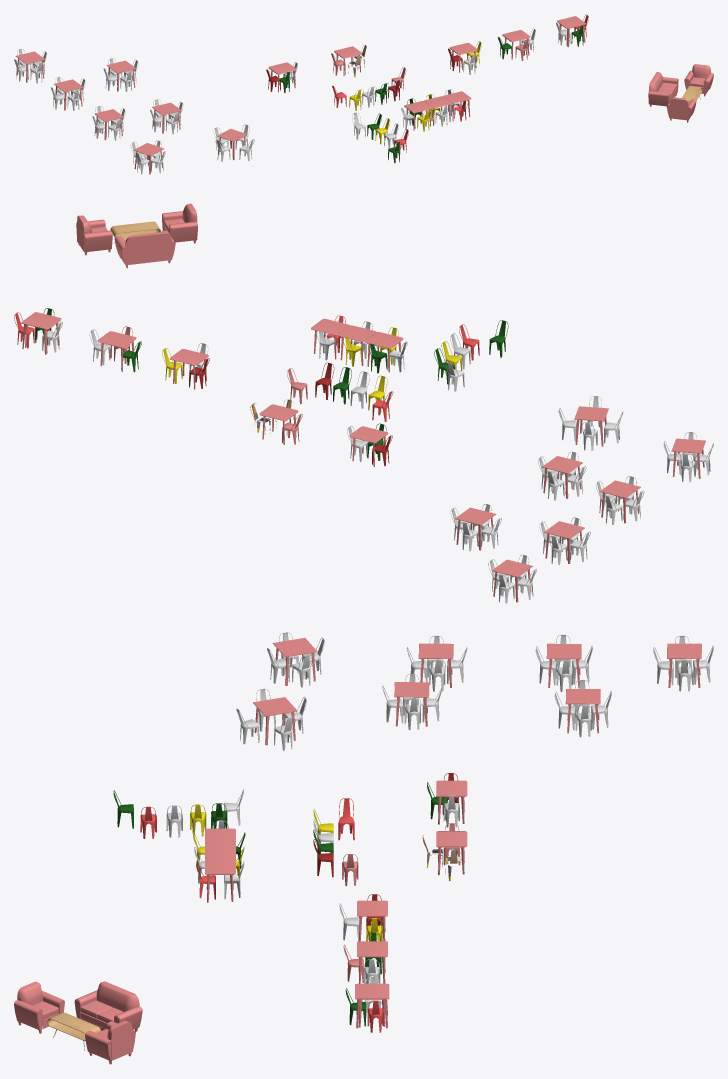
Rendered from chaise_table_fer_salle_de_pause.fbx.
The picture shows the model from 3 angles, top to bottom: view 1: azimuth 30°, elevation 25°; view 2: azimuth 150°, elevation 25°; view 3: azimuth 270°, elevation 25°; orthographic projection. The views are drawn at different scales.
Visible parts, largest first — view 1: chaise_table_fer_salle_de_pause2; view 2: chaise_table_fer_salle_de_pause2; view 3: chaise_table_fer_salle_de_pause2.
Part boxes in pixels (x1,y1,x2,y2): chaise_table_fer_salle_de_pause2: [14, 14, 713, 174]; chaise_table_fer_salle_de_pause2: [14, 203, 713, 603]; chaise_table_fer_salle_de_pause2: [14, 632, 713, 1064].
Bounding box in the file's own units: 2024 × 84.37 × 1495.
